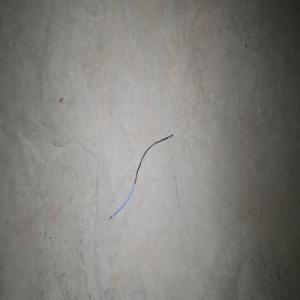Wire: (109, 133, 173, 220)
